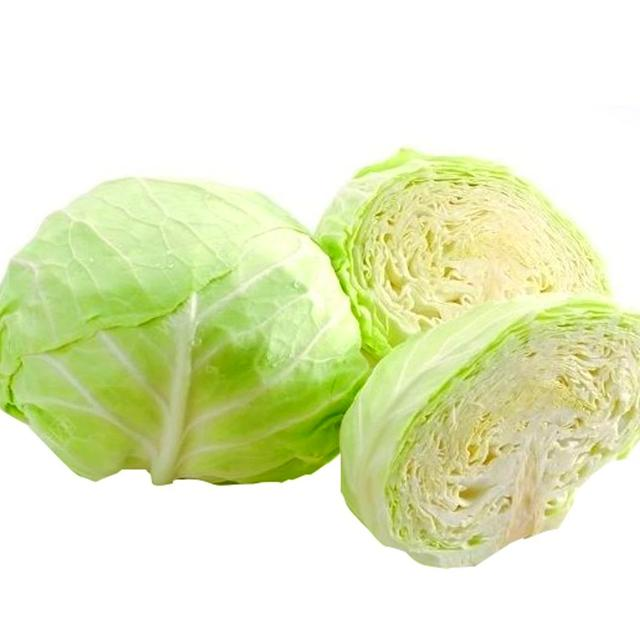cabbage: (0, 176, 371, 489), (338, 298, 640, 569), (311, 148, 615, 362)
